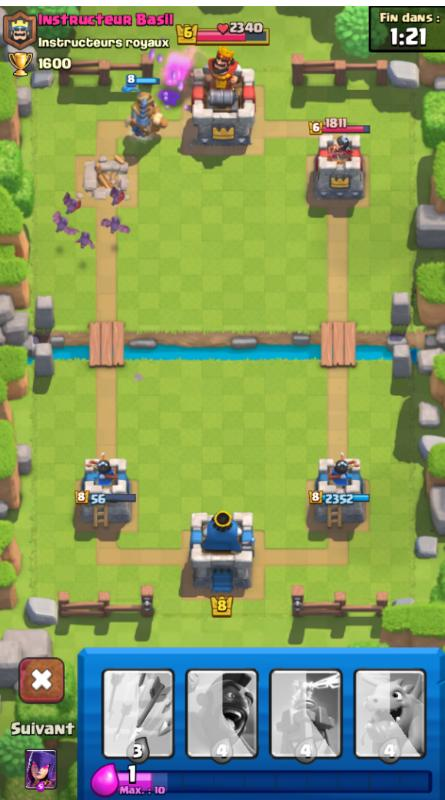bat: (51, 211, 80, 237), (100, 215, 130, 238), (61, 191, 82, 215), (104, 188, 125, 207), (75, 232, 96, 250)
